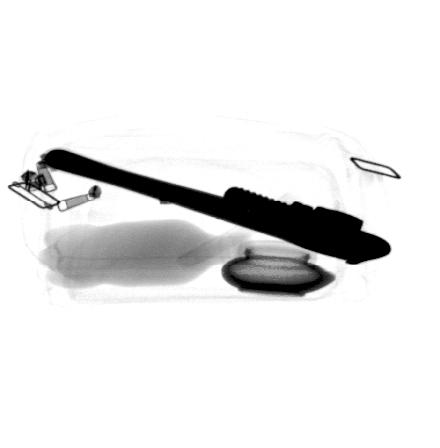Wrench: (43, 145, 393, 268)
